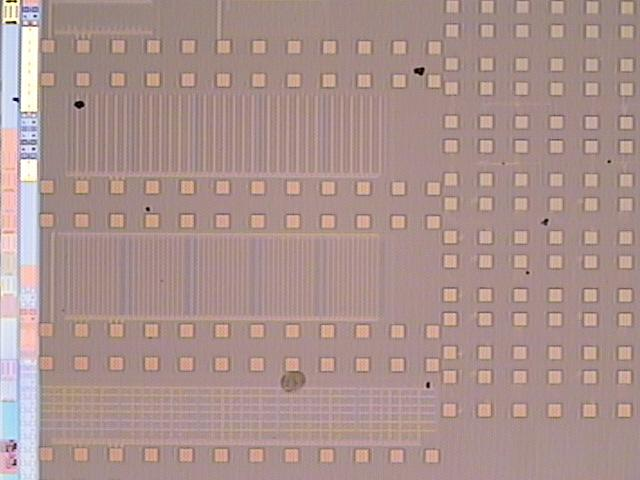PO CONTAMINATION: (5, 65, 614, 470)
